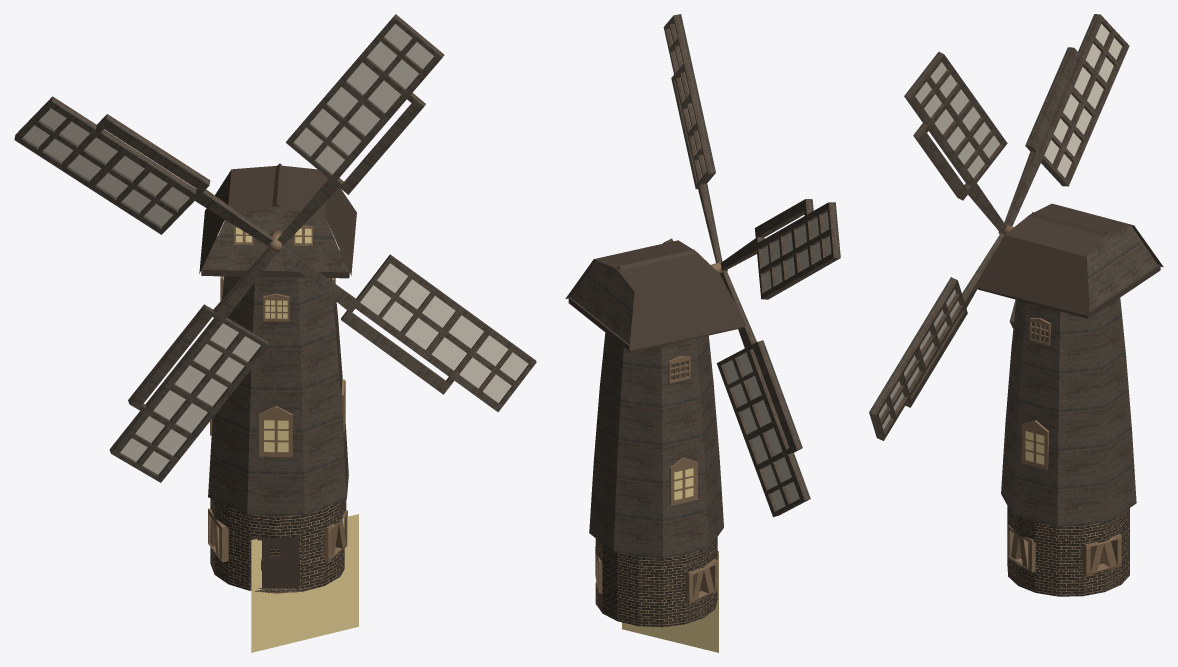
Rendered from windmill.glb.
3 views of the same model, side by side, from view 1: azimuth 30°, elevation 25°; view 2: azimuth 150°, elevation 25°; view 3: azimuth 270°, elevation 25° (orthographic). The views are drawn at different scales.
Visible parts, largest first — view 1: Sails, Body, window glass; view 2: Body, Sails, window glass; view 3: Body, Sails.
Part boxes in pixels (bbox=[...]): Sails: bbox=[14, 14, 536, 482]; Body: bbox=[199, 163, 356, 593]; window glass: bbox=[251, 514, 358, 652]; Body: bbox=[565, 240, 746, 627]; Sails: bbox=[663, 14, 840, 516]; window glass: bbox=[622, 551, 718, 652]; Body: bbox=[975, 203, 1163, 596]; Sails: bbox=[869, 14, 1129, 440].
Size of the model in its own units: 2.2 by 3.53 by 1.59.
5 materials, 2 textured.
